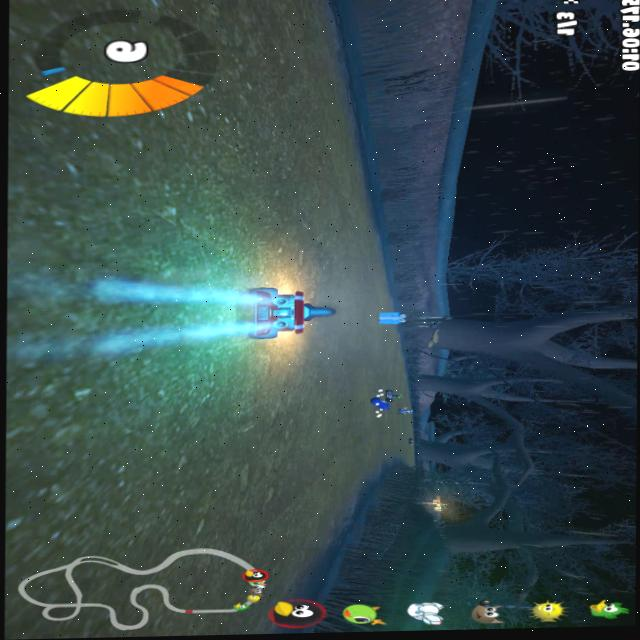bonus: (375, 309, 406, 326)
nitro: (366, 392, 390, 415)
player_kart: (238, 279, 336, 343), (405, 434, 419, 444)
track: (11, 340, 279, 637), (8, 0, 238, 346), (234, 0, 342, 279), (280, 340, 337, 555), (338, 131, 365, 505), (351, 329, 398, 465), (397, 382, 422, 466), (373, 221, 393, 304), (352, 454, 374, 487)
